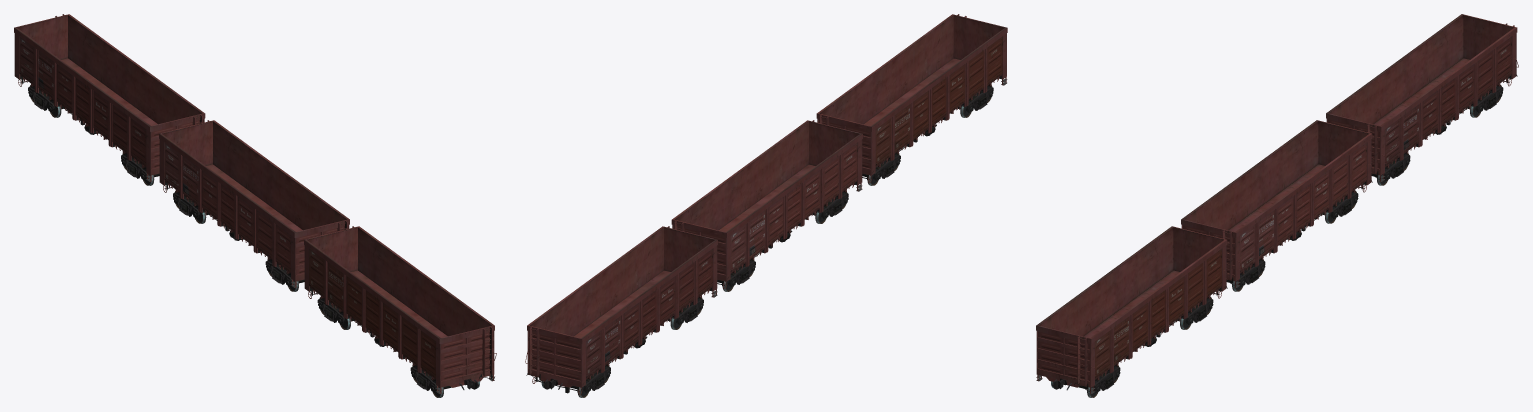
File: wagon.glb
3 views of the same model, side by side, from view 1: azimuth 30°, elevation 25°; view 2: azimuth 150°, elevation 25°; view 3: azimuth 330°, elevation 25° (orthographic).
Visible parts, largest first — view 1: wagon004, wagon002, wagon, bottomDetails002; view 2: wagon002, wagon, wagon004, bottomDetails001; view 3: wagon004, wagon002, wagon, bottomDetails002, bottomDetails, bottomDetails001.
Part boxes in pixels (box(x1,y1,x2,y2)): wagon004: box(304, 226, 494, 387); wagon002: box(14, 14, 205, 175); wagon: box(159, 120, 349, 281); bottomDetails002: box(308, 226, 496, 393); wagon002: box(527, 226, 717, 387); wagon: box(671, 120, 862, 281); wagon004: box(816, 14, 1007, 175); bottomDetails001: box(525, 226, 717, 394); wagon004: box(1036, 226, 1227, 387); wagon002: box(1326, 14, 1517, 175); wagon: box(1181, 120, 1372, 281); bottomDetails002: box(1036, 235, 1228, 394); bottomDetails: box(1222, 129, 1373, 287); bottomDetails001: box(1367, 23, 1518, 181).
Size of the model in its own units: 5.69 by 6.46 by 74.14.
1 material, 1 textured.
